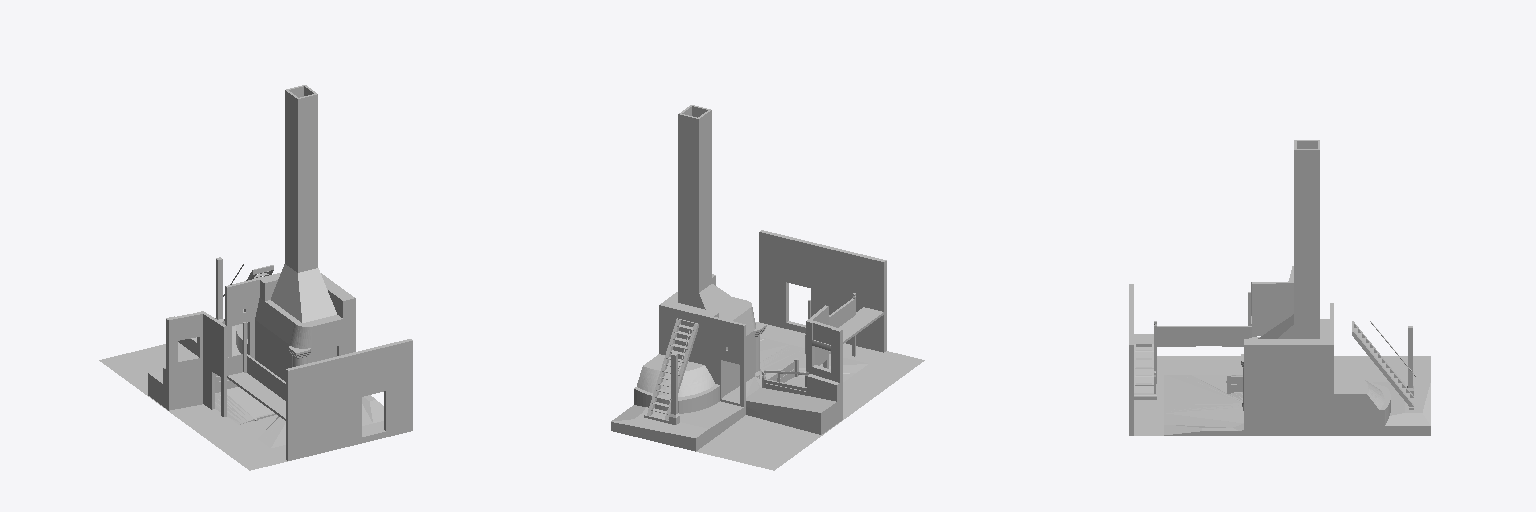
Rendered from stredni_cast_domu.obj.
3 renders of one model, left to right at view 1: azimuth 30°, elevation 25°; view 2: azimuth 150°, elevation 25°; view 3: azimuth 270°, elevation 25°, orthographic.
Parts seen in each view (by area): view 1: Mesh1 Group2 Group1 Model, Mesh60 Group8 Group3 Group1 Model, Mesh84 Group3 Group1 Model, Mesh57 Group7 Group3 Group1 Model, Mesh53 Group6 Group3 Group1 Model, Mesh7 Group4 Group3 Group1 Model; view 2: Mesh84 Group3 Group1 Model, Mesh1 Group2 Group1 Model, Mesh60 Group8 Group3 Group1 Model, Mesh57 Group7 Group3 Group1 Model, Mesh7 Group4 Group3 Group1 Model, Mesh62 Group9 Group3 Group1 Model, Mesh53 Group6 Group3 Group1 Model, Mesh43 Group5 Group3 Group1 Model, Mesh44 Group5 Group3 Group1 Model; view 3: Mesh1 Group2 Group1 Model, Mesh84 Group3 Group1 Model, Mesh53 Group6 Group3 Group1 Model, Mesh62 Group9 Group3 Group1 Model, Mesh57 Group7 Group3 Group1 Model, Mesh60 Group8 Group3 Group1 Model, Mesh43 Group5 Group3 Group1 Model, Mesh7 Group4 Group3 Group1 Model.
Boxes of the visible parts, <box> form: Mesh1 Group2 Group1 Model: <box>255,85,355,381</box>; Mesh60 Group8 Group3 Group1 Model: <box>286,339,412,460</box>; Mesh84 Group3 Group1 Model: <box>99,325,383,470</box>; Mesh57 Group7 Group3 Group1 Model: <box>148,311,237,416</box>; Mesh53 Group6 Group3 Group1 Model: <box>227,322,285,420</box>; Mesh7 Group4 Group3 Group1 Model: <box>225,273,280,358</box>; Mesh84 Group3 Group1 Model: <box>611,322,924,470</box>; Mesh1 Group2 Group1 Model: <box>661,105,766,396</box>; Mesh60 Group8 Group3 Group1 Model: <box>759,230,886,351</box>; Mesh57 Group7 Group3 Group1 Model: <box>746,305,862,426</box>; Mesh7 Group4 Group3 Group1 Model: <box>659,304,745,415</box>; Mesh62 Group9 Group3 Group1 Model: <box>634,354,719,413</box>; Mesh53 Group6 Group3 Group1 Model: <box>805,296,883,356</box>; Mesh43 Group5 Group3 Group1 Model: <box>644,318,698,423</box>; Mesh44 Group5 Group3 Group1 Model: <box>669,353,679,424</box>; Mesh1 Group2 Group1 Model: <box>1241,140,1329,435</box>; Mesh84 Group3 Group1 Model: <box>1134,356,1430,435</box>; Mesh53 Group6 Group3 Group1 Model: <box>1134,292,1251,399</box>; Mesh62 Group9 Group3 Group1 Model: <box>1334,372,1390,425</box>; Mesh57 Group7 Group3 Group1 Model: <box>1227,266,1293,393</box>; Mesh60 Group8 Group3 Group1 Model: <box>1129,284,1133,435</box>; Mesh43 Group5 Group3 Group1 Model: <box>1352,321,1413,409</box>; Mesh7 Group4 Group3 Group1 Model: <box>1330,303,1333,435</box>.
Size of the model in its own units: 7.1 by 11.57 by 11.35.